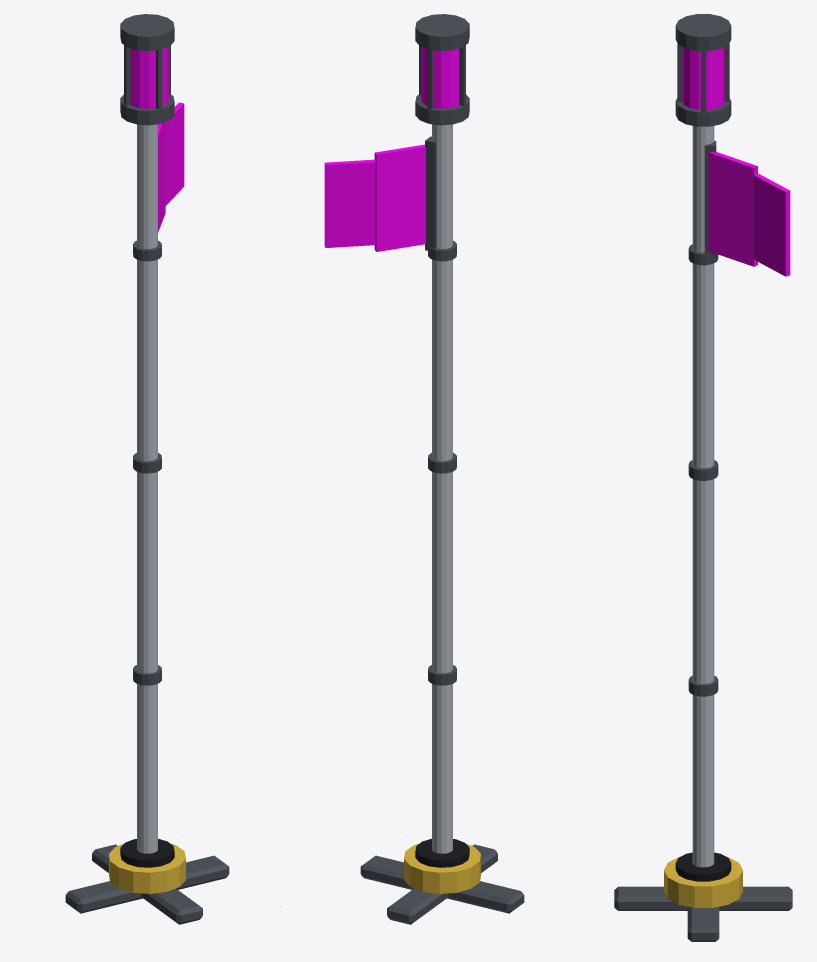
Rendered from balise.glb.
The picture shows the model from 3 angles, left to right: view 1: azimuth 30°, elevation 25°; view 2: azimuth 150°, elevation 25°; view 3: azimuth 270°, elevation 25°; orthographic projection.
Parts seen in each view (by area): view 1: balise_gris_clair.002, balise_acier_sombre.002, balise_teinte.002, balise_jaune.002, balise_noir.002; view 2: balise_gris_clair.002, balise_teinte.002, balise_acier_sombre.002, balise_jaune.002, balise_noir.002; view 3: balise_gris_clair.002, balise_teinte.002, balise_acier_sombre.002, balise_jaune.002, balise_noir.002.
Boxes of the visible parts, x1=… form: balise_gris_clair.002: x1=137, y1=124, x2=157, y2=853; balise_acier_sombre.002: x1=65, y1=14, x2=229, y2=924; balise_teinte.002: x1=130, y1=47, x2=184, y2=232; balise_jaune.002: x1=109, y1=843, x2=185, y2=893; balise_noir.002: x1=120, y1=838, x2=174, y2=867; balise_gris_clair.002: x1=432, y1=124, x2=452, y2=853; balise_teinte.002: x1=324, y1=47, x2=459, y2=251; balise_acier_sombre.002: x1=360, y1=14, x2=524, y2=924; balise_jaune.002: x1=404, y1=843, x2=480, y2=893; balise_noir.002: x1=415, y1=838, x2=469, y2=867; balise_gris_clair.002: x1=692, y1=126, x2=714, y2=867; balise_teinte.002: x1=682, y1=47, x2=790, y2=276; balise_acier_sombre.002: x1=614, y1=14, x2=792, y2=941; balise_jaune.002: x1=664, y1=857, x2=742, y2=907; balise_noir.002: x1=675, y1=852, x2=731, y2=881.
Size of the model in its own units: 0.5 by 2.45 by 0.5.
